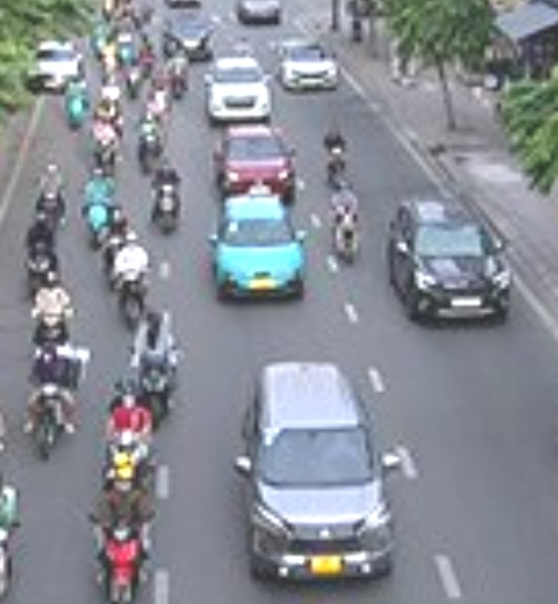car: (247, 361, 396, 579), (387, 198, 512, 328), (213, 197, 306, 301), (213, 125, 298, 201), (206, 58, 271, 125), (277, 38, 339, 93)
